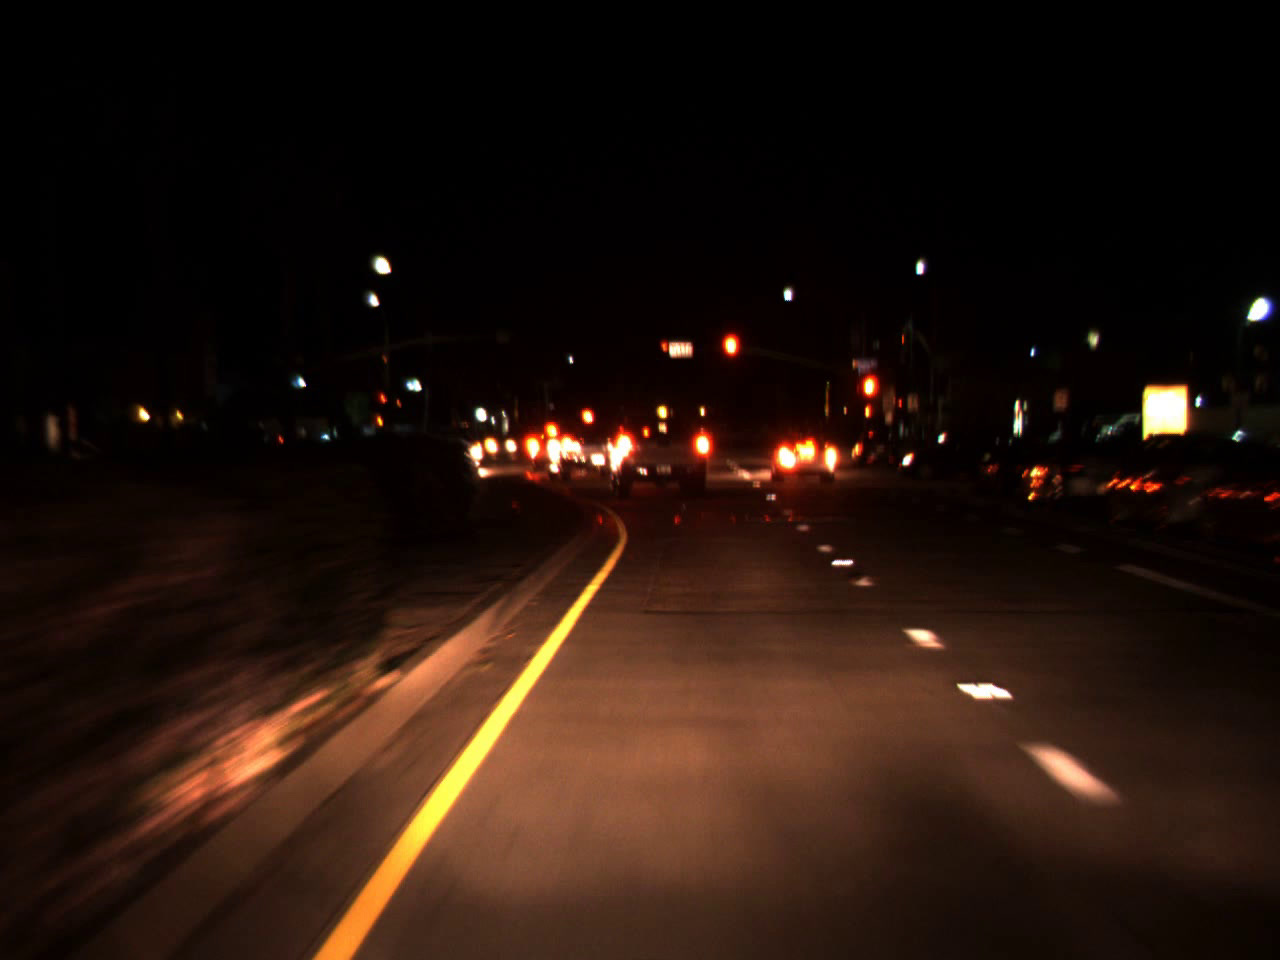stop: (858, 370, 882, 429), (719, 329, 743, 385), (660, 341, 667, 362), (380, 393, 386, 411)
